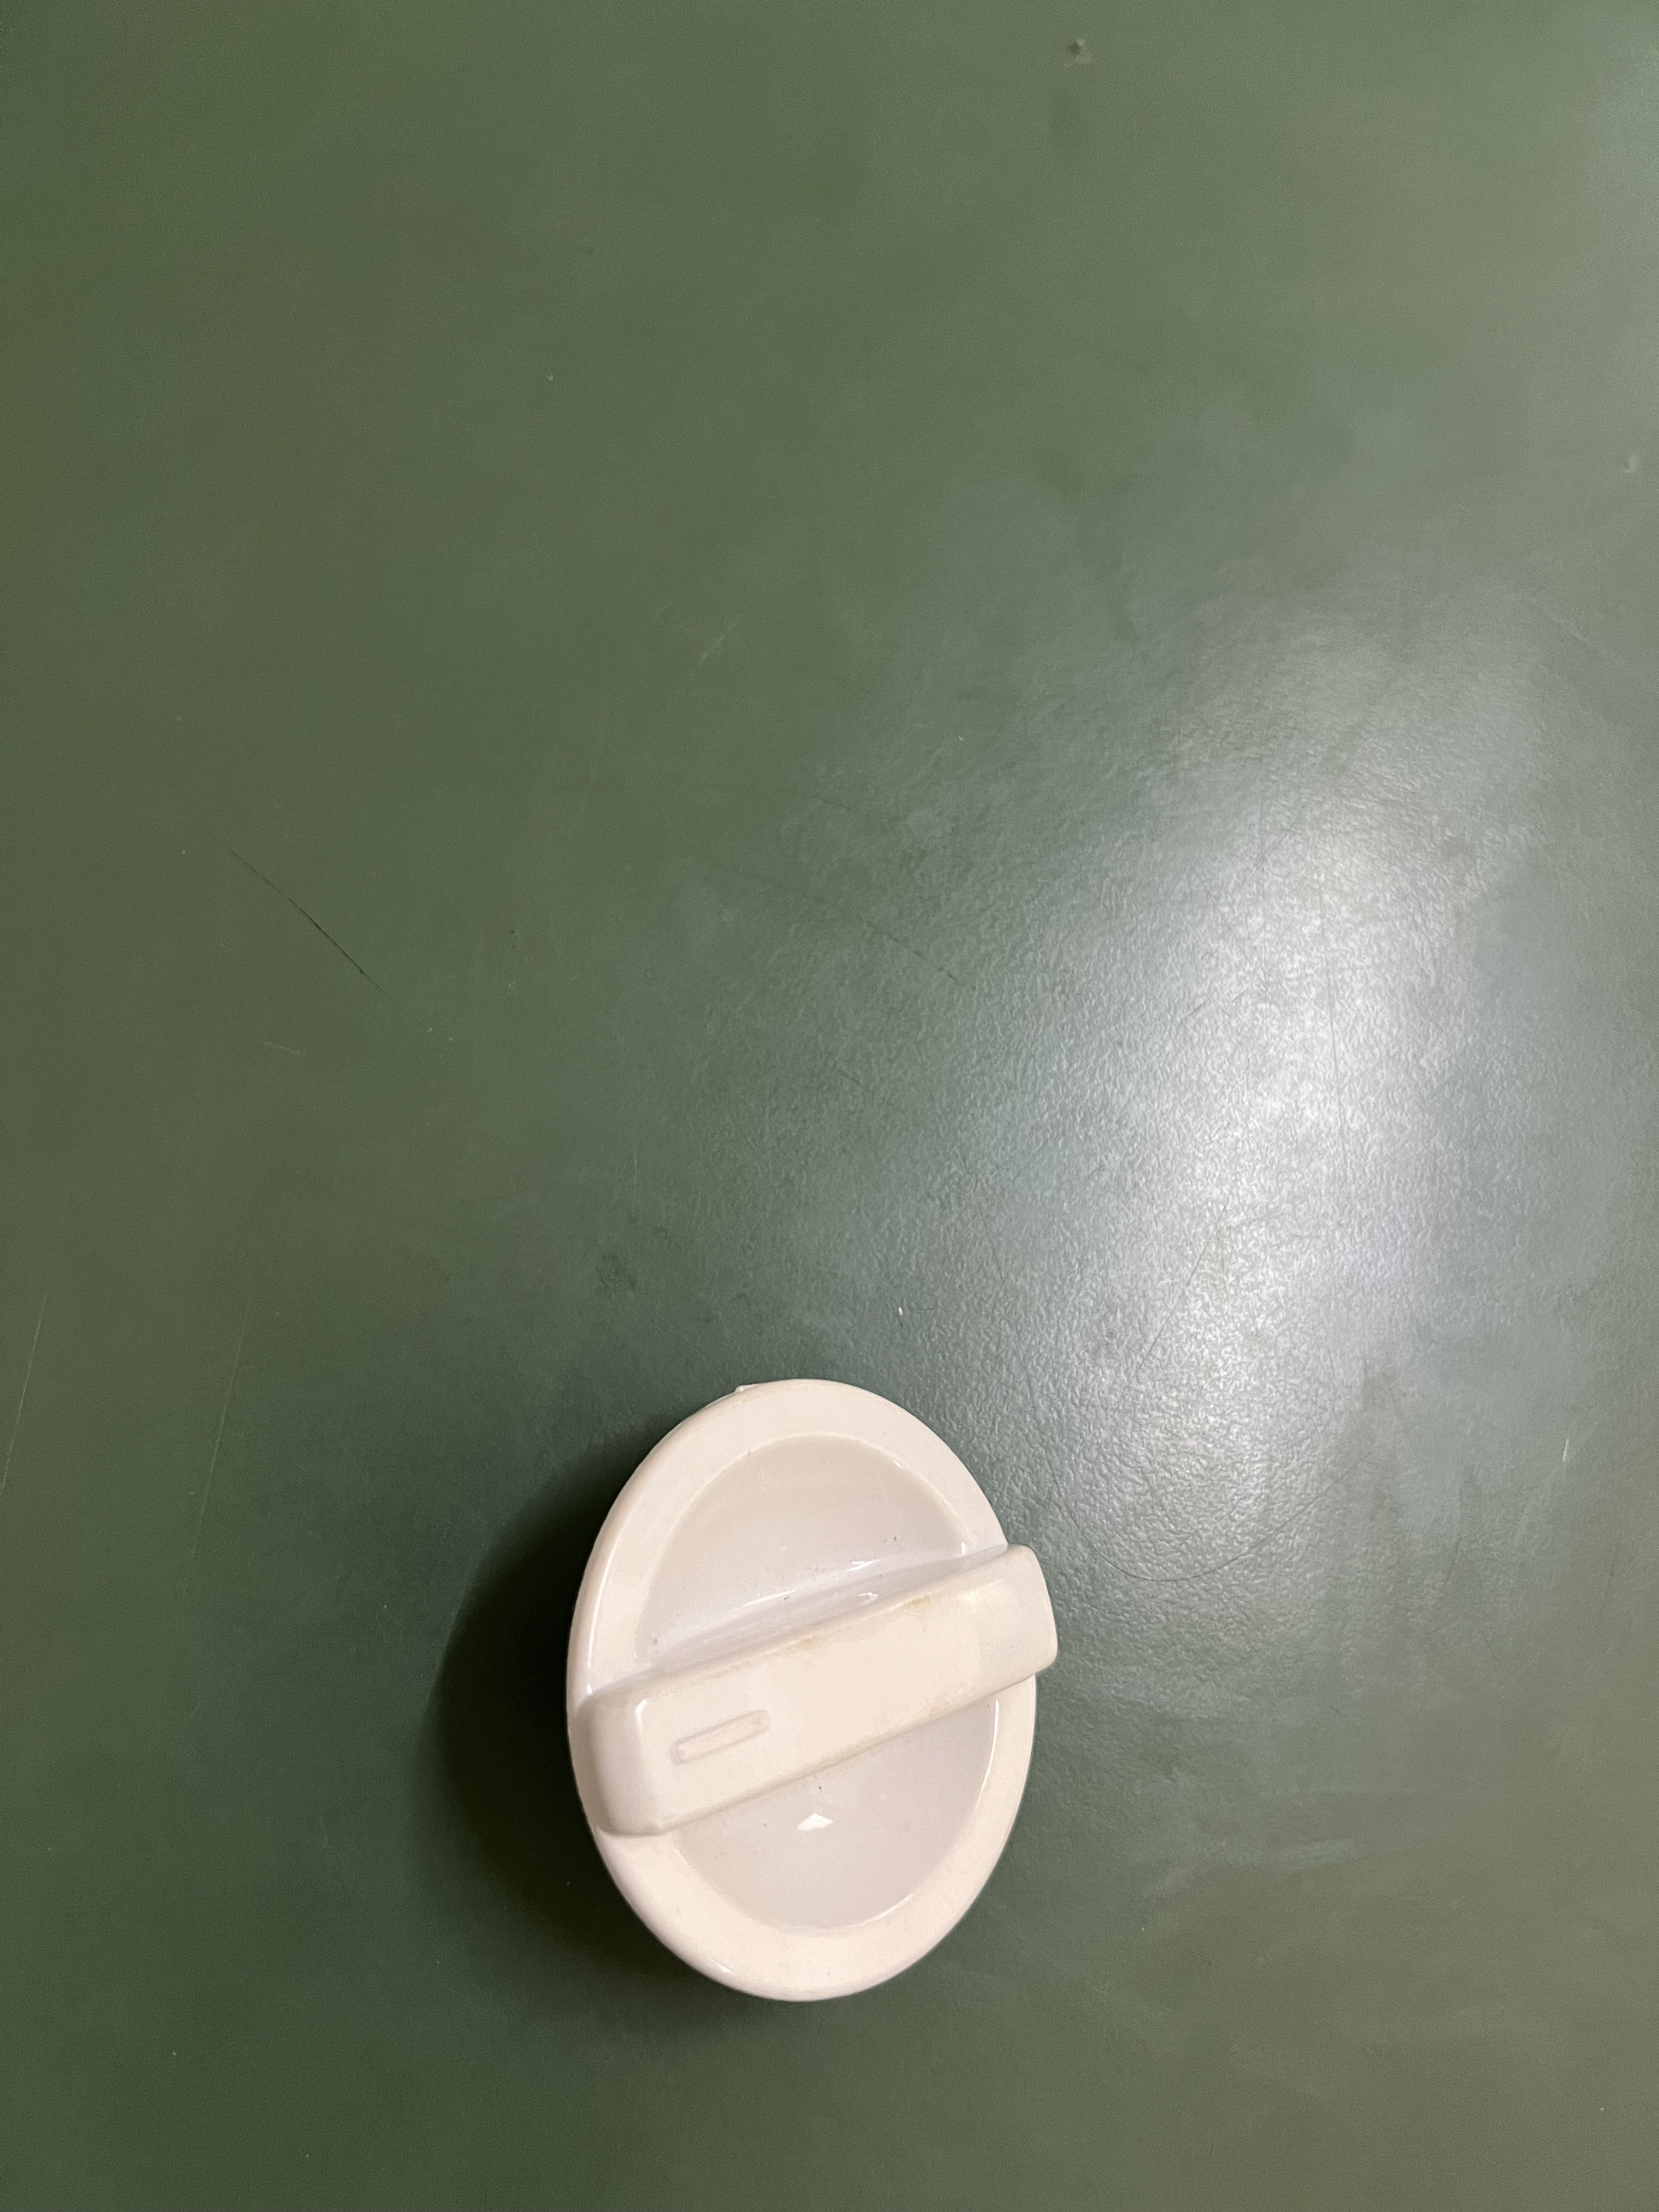regulator: (573, 1362, 1079, 1994)
